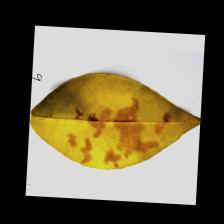black spot: (68, 96, 171, 159)
